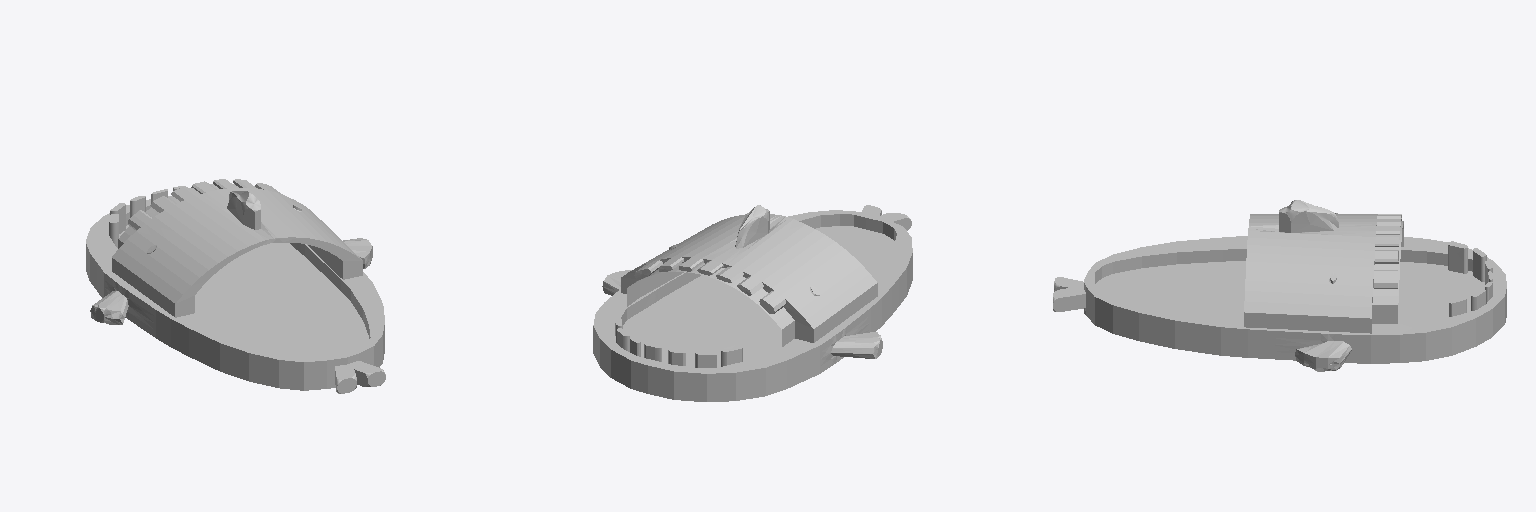
The model's file is poke_faces.obj.
3 renders of one model, left to right at view 1: azimuth 30°, elevation 25°; view 2: azimuth 150°, elevation 25°; view 3: azimuth 270°, elevation 25°, orthographic.
Visible parts, largest first — view 1: Plane; view 2: Plane; view 3: Plane.
Boxes of the visible parts, x1=… form: Plane: x1=86, y1=179, x2=385, y2=393; Plane: x1=593, y1=205, x2=912, y2=401; Plane: x1=1053, y1=200, x2=1506, y2=371.
Size of the model in its own units: 8.84 by 3.51 by 12.73.